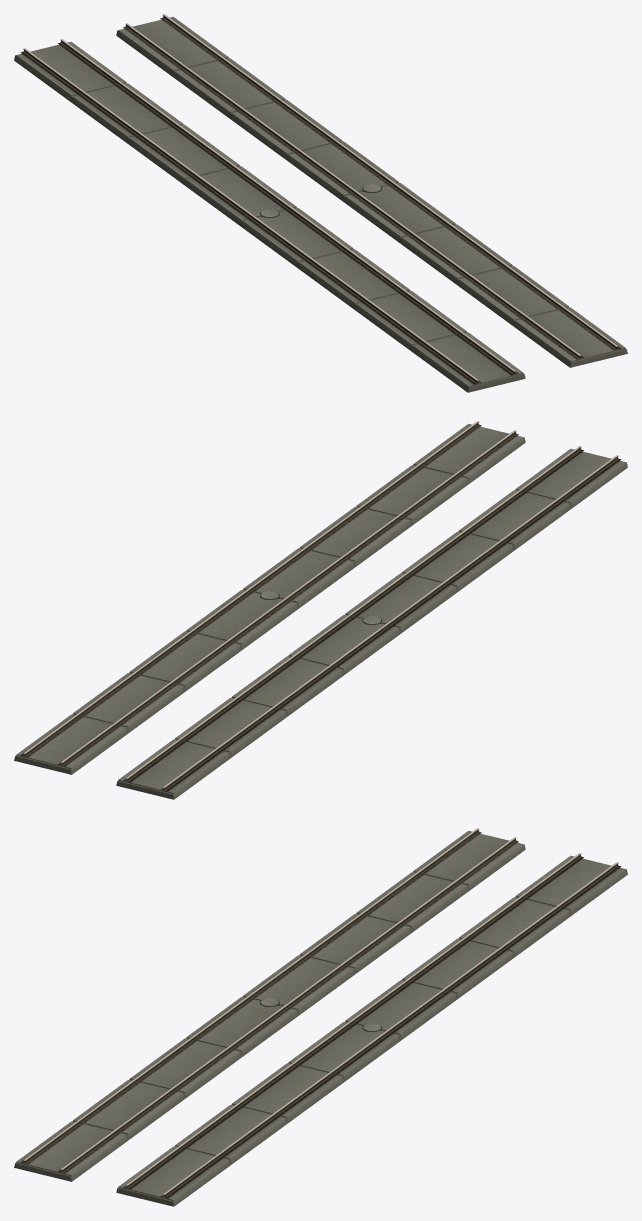
File: 2RAIL_KONKURI_N.glb
3 renders of one model, top to bottom at view 1: azimuth 30°, elevation 25°; view 2: azimuth 150°, elevation 25°; view 3: azimuth 330°, elevation 25°, orthographic.
Parts seen in each view (by area): view 1: obj6; view 2: obj6; view 3: obj6.
Part boxes in pixels (x1,y1,x2,y2): obj6: (14, 14, 627, 392); obj6: (14, 421, 627, 799); obj6: (14, 828, 627, 1206).
Bounding box in the file's own units: 20.36 × 1.19 × 100.
Materials: 4 (3 with a texture image).
